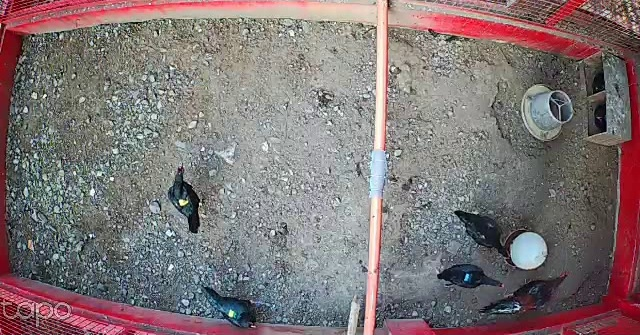Chicken: (194, 279, 256, 329), (452, 206, 509, 259), (169, 159, 208, 236), (425, 262, 509, 292)
Rooster: (471, 269, 571, 317)
Saddle_Color_Blue: (464, 273, 470, 283)
Saddle_Color_Yellow: (177, 196, 189, 206)
Saddle_Color_YellowGreen: (227, 308, 240, 319)
